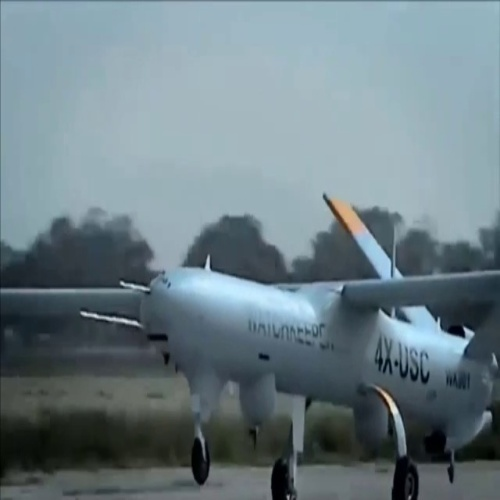uav: (5, 188, 500, 499)
